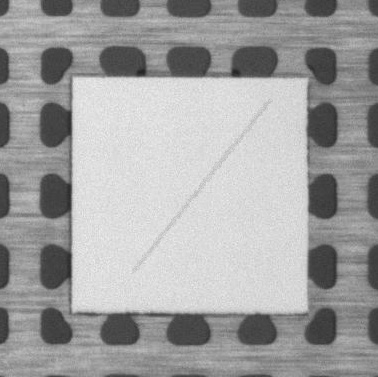DIE_CRACK: (134, 99, 272, 270)
